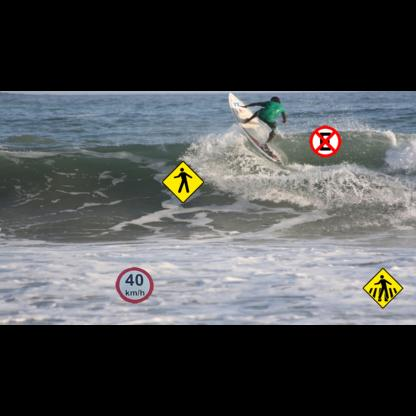A-32a: (161, 160, 204, 204)
A-32b: (362, 268, 404, 309)
R-19: (115, 267, 153, 303)
R-6c: (309, 126, 341, 158)
